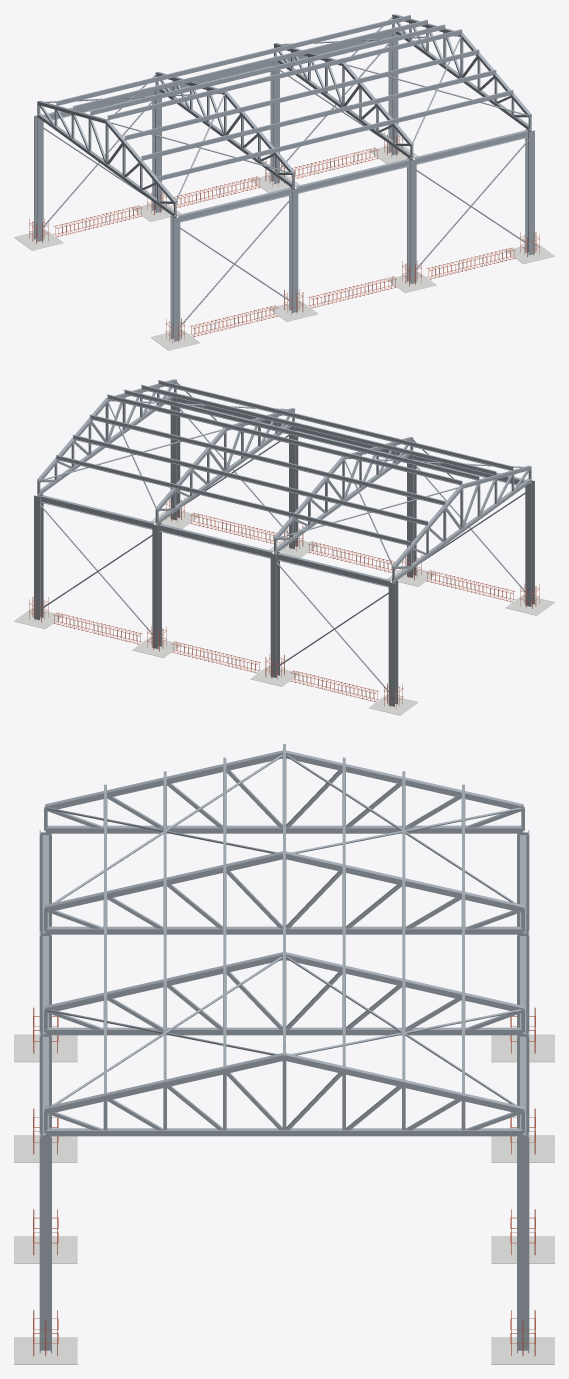
The picture shows the model from 3 angles, top to bottom: view 1: azimuth 30°, elevation 25°; view 2: azimuth 150°, elevation 25°; view 3: azimuth 270°, elevation 25°; orthographic projection. The views are drawn at different scales.
Visible parts, largest first — view 1: 3V1UqV9ybRIeVZNmve6Bxb, 1Ke1D0jTHHfvT3Je_as3VI, 2iA003WaLUuxoes$vAwmeN, 1KiWH9IofHnQ6GlriCMpkI, 2jSfhgdxHITBpJKBF_FtTp, 0TCaX9h$HQxxSkuhp$WnwI, 3UQU68HFjJKBjROo3WWp_N, 3AAZA11FzM$Bk_16DxJTsx, 3El3xbHsDLy8g5jdCpjdk3, 01K2o3y6PKLvgajzX28n9s, 3NbpcE7ZfM69NMTOCUfXyS, 0bjV203UnReg58gQd0PcJ3 (+44 smaller); view 2: 1Ke1D0jTHHfvT3Je_as3VI, 3V1UqV9ybRIeVZNmve6Bxb, 0bjV203UnReg58gQd0PcJ3, 01K2o3y6PKLvgajzX28n9s, 3El3xbHsDLy8g5jdCpjdk3, 0y9iOJOWbTe8MLypnJyGm0, 17C5diBsDTQPE9gX_UpajC, 0VoRNwVPjLl9H$xikhyLeq, 2jSfhgdxHITBpJKBF_FtTp, 1KiWH9IofHnQ6GlriCMpkI, 3NbpcE7ZfM69NMTOCUfXyS, 2iA003WaLUuxoes$vAwmeN (+44 smaller); view 3: 1A4YtYxaHSse8XJ8U0w8AV, 1Y47sv1KXLY9w0F3bMicD5, 3NbpcE7ZfM69NMTOCUfXyS, 1itopkYNbPGv4EHzATcIA0, 2jSfhgdxHITBpJKBF_FtTp, 3El3xbHsDLy8g5jdCpjdk3, 2DOvffzevPfwlUsVCOpLz9, 2YBnrzcdXHbvXtsH_f2cZh, 3d55Gw8QDT$9Uko7t8aP8p, 2A73sD99XO1wOkTH$7ngpv, 0t7psVb95LGh94A7SCbhMW, 3L0u47pgjPpPf1g2wOIzjO (+14 smaller).
Boxes of the visible parts, x1=… form: 3V1UqV9ybRIeVZNmve6Bxb: x1=170, y1=215, x2=180, y2=341; 1Ke1D0jTHHfvT3Je_as3VI: x1=34, y1=115, x2=43, y2=241; 2iA003WaLUuxoes$vAwmeN: x1=407, y1=158, x2=416, y2=283; 1KiWH9IofHnQ6GlriCMpkI: x1=289, y1=187, x2=298, y2=312; 2jSfhgdxHITBpJKBF_FtTp: x1=525, y1=129, x2=534, y2=255; 0TCaX9h$HQxxSkuhp$WnwI: x1=177, y1=188, x2=291, y2=222; 3UQU68HFjJKBjROo3WWp_N: x1=296, y1=159, x2=409, y2=193; 3AAZA11FzM$Bk_16DxJTsx: x1=414, y1=130, x2=527, y2=164; 3El3xbHsDLy8g5jdCpjdk3: x1=388, y1=32, x2=398, y2=155; 01K2o3y6PKLvgajzX28n9s: x1=152, y1=90, x2=161, y2=212; 3NbpcE7ZfM69NMTOCUfXyS: x1=37, y1=113, x2=176, y2=216; 0bjV203UnReg58gQd0PcJ3: x1=270, y1=61, x2=279, y2=184; 1Ke1D0jTHHfvT3Je_as3VI: x1=388, y1=580, x2=398, y2=706; 3V1UqV9ybRIeVZNmve6Bxb: x1=525, y1=480, x2=534, y2=606; 0bjV203UnReg58gQd0PcJ3: x1=152, y1=523, x2=161, y2=648; 01K2o3y6PKLvgajzX28n9s: x1=270, y1=552, x2=279, y2=677; 3El3xbHsDLy8g5jdCpjdk3: x1=34, y1=494, x2=43, y2=620; 0y9iOJOWbTe8MLypnJyGm0: x1=277, y1=553, x2=391, y2=587; 17C5diBsDTQPE9gX_UpajC: x1=159, y1=524, x2=272, y2=558; 0VoRNwVPjLl9H$xikhyLeq: x1=41, y1=495, x2=154, y2=529; 2jSfhgdxHITBpJKBF_FtTp: x1=170, y1=397, x2=180, y2=520; 1KiWH9IofHnQ6GlriCMpkI: x1=407, y1=455, x2=416, y2=577; 3NbpcE7ZfM69NMTOCUfXyS: x1=392, y1=478, x2=531, y2=581; 2iA003WaLUuxoes$vAwmeN: x1=289, y1=426, x2=298, y2=549; 1A4YtYxaHSse8XJ8U0w8AV: x1=45, y1=1128, x2=523, y2=1136; 1Y47sv1KXLY9w0F3bMicD5: x1=45, y1=926, x2=523, y2=934; 3NbpcE7ZfM69NMTOCUfXyS: x1=45, y1=825, x2=523, y2=833; 1itopkYNbPGv4EHzATcIA0: x1=45, y1=1027, x2=523, y2=1035; 2jSfhgdxHITBpJKBF_FtTp: x1=39, y1=1132, x2=51, y2=1353; 3El3xbHsDLy8g5jdCpjdk3: x1=517, y1=1132, x2=529, y2=1353; 2DOvffzevPfwlUsVCOpLz9: x1=45, y1=1053, x2=284, y2=1114; 2YBnrzcdXHbvXtsH_f2cZh: x1=284, y1=1053, x2=523, y2=1114; 3d55Gw8QDT$9Uko7t8aP8p: x1=45, y1=851, x2=282, y2=912; 2A73sD99XO1wOkTH$7ngpv: x1=286, y1=851, x2=523, y2=912; 0t7psVb95LGh94A7SCbhMW: x1=45, y1=750, x2=282, y2=811; 3L0u47pgjPpPf1g2wOIzjO: x1=286, y1=750, x2=523, y2=811.
Bounding box in the file's own units: 19.6 × 8.45 × 13.6.
